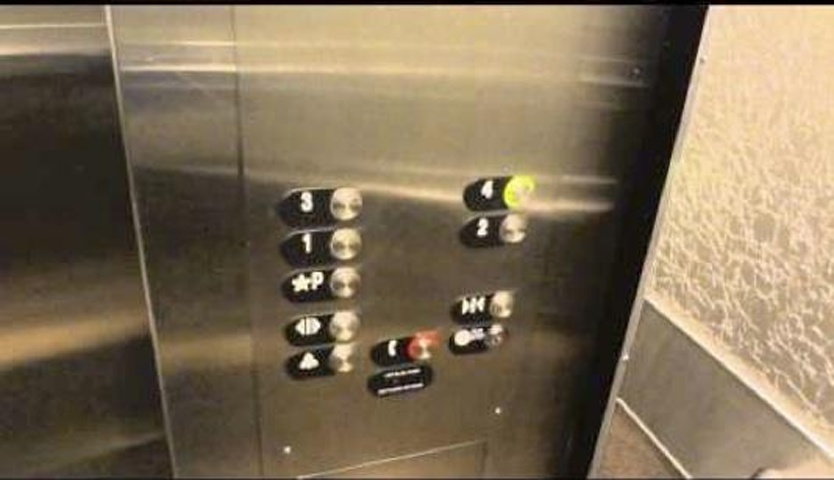1: (278, 227, 364, 269)
2: (458, 212, 530, 249)
3: (280, 185, 363, 229)
4: (462, 175, 538, 212)
alarm: (283, 343, 361, 380)
blur: (448, 324, 511, 356)
call: (369, 331, 441, 367)
close: (448, 290, 514, 325)
open: (283, 311, 362, 347)
sP: (279, 267, 362, 304)
text_blur: (365, 364, 436, 398)
